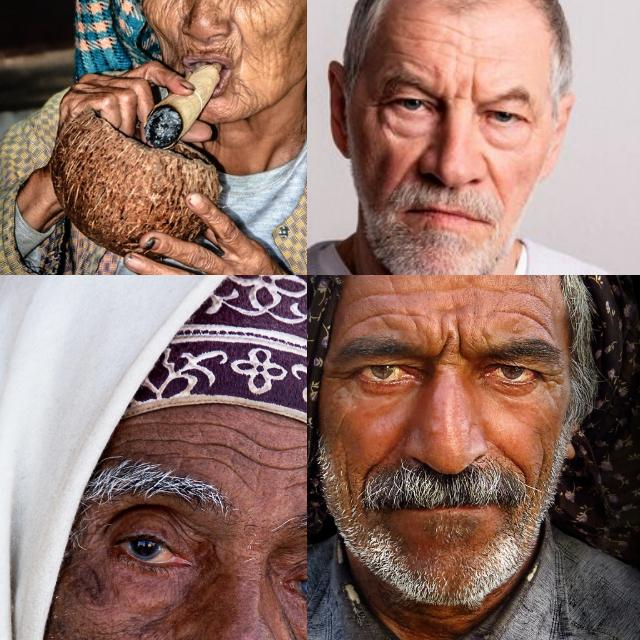bunny_line: (213, 0, 237, 10)
chin: (231, 77, 251, 115)
crows_feet: (325, 364, 355, 390), (367, 92, 389, 120), (540, 366, 562, 392)
forehead: (197, 416, 253, 476), (268, 433, 307, 486), (132, 419, 184, 457), (350, 304, 412, 330), (506, 304, 550, 334), (501, 282, 549, 308), (357, 283, 415, 303), (446, 23, 472, 41), (411, 14, 443, 28)
frown_line: (434, 327, 466, 361), (463, 72, 477, 106)
gummy_smile: (495, 446, 531, 482), (354, 458, 378, 500), (393, 154, 417, 182), (482, 158, 500, 188), (230, 21, 248, 49)
masseter: (336, 452, 354, 493), (534, 449, 552, 489), (143, 0, 162, 22)
smoker_lines: (182, 38, 222, 54)
